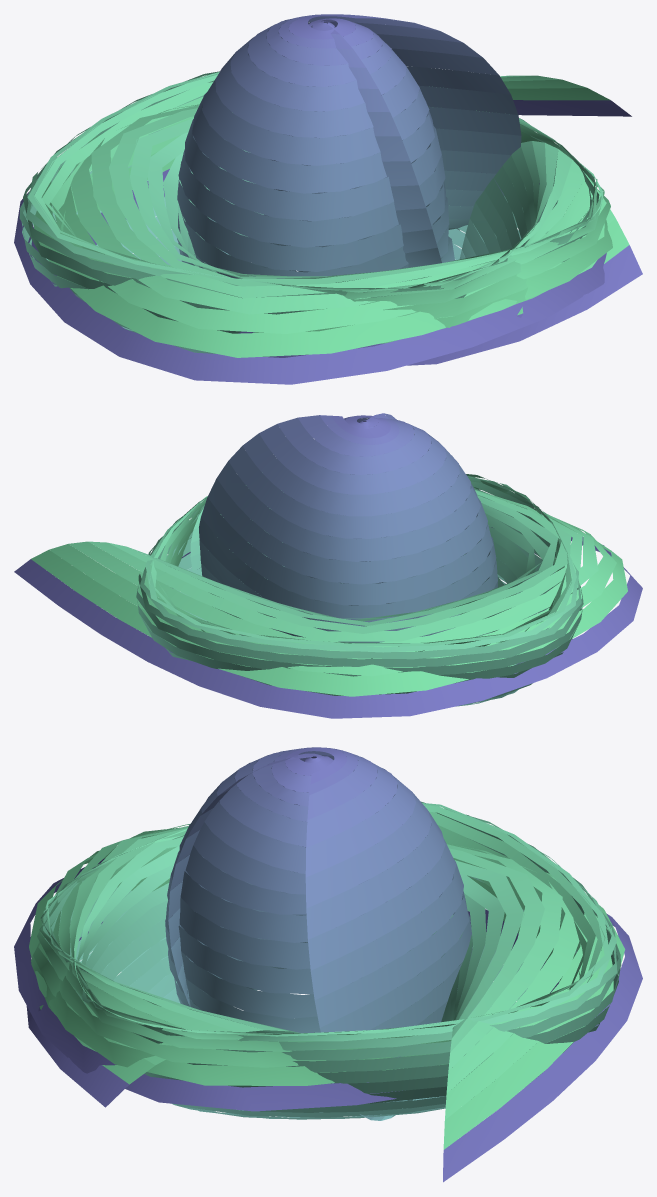
File: NatalieCampos_Obj3.glb
3 views of the same model, one above another, from view 1: azimuth 30°, elevation 25°; view 2: azimuth 150°, elevation 25°; view 3: azimuth 270°, elevation 25° (orthographic). The views are drawn at different scales.
Visible parts, largest first — view 1: Natalie_Campos-GalObj5.001; view 2: Natalie_Campos-GalObj5.001; view 3: Natalie_Campos-GalObj5.001.
Part boxes in pixels (x1,y1,x2,y2): Natalie_Campos-GalObj5.001: (14, 14, 642, 384); Natalie_Campos-GalObj5.001: (14, 413, 642, 718); Natalie_Campos-GalObj5.001: (14, 747, 642, 1182).
Bounding box in the file's own units: 29.97 × 12.27 × 24.46.
